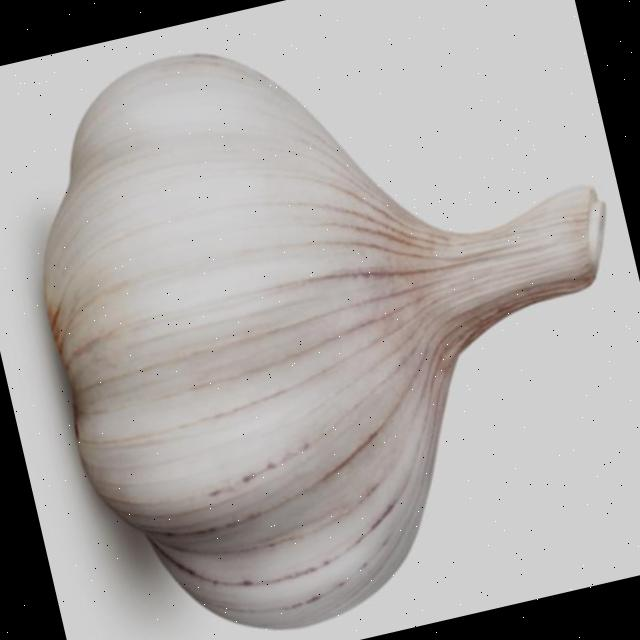garlic: (45, 54, 601, 628)
